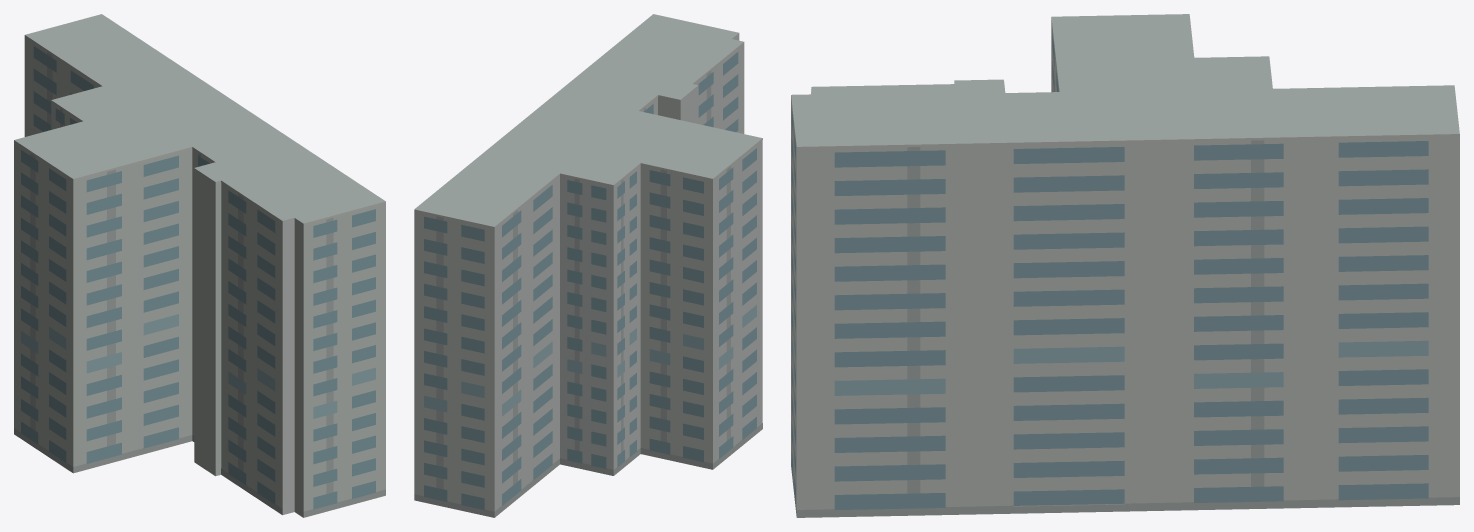
Rendered from residential-b10b93f8-1b21-42ed-9ffb-a4563874a54e.glb.
3 views of the same model, side by side, from view 1: azimuth 30°, elevation 25°; view 2: azimuth 150°, elevation 25°; view 3: azimuth 270°, elevation 25° (orthographic). The views are drawn at different scales.
Visible parts, largest first — view 1: residential-b10b93f8-1b21-42ed-9ffb-a4563874a54e.tmp; view 2: residential-b10b93f8-1b21-42ed-9ffb-a4563874a54e.tmp; view 3: residential-b10b93f8-1b21-42ed-9ffb-a4563874a54e.tmp.
Part boxes in pixels (x1,y1,x2,y2): residential-b10b93f8-1b21-42ed-9ffb-a4563874a54e.tmp: [14, 14, 385, 517]; residential-b10b93f8-1b21-42ed-9ffb-a4563874a54e.tmp: [414, 14, 762, 517]; residential-b10b93f8-1b21-42ed-9ffb-a4563874a54e.tmp: [791, 14, 1459, 517].
Bounding box in the file's own units: 28.43 × 37 × 60.46.
